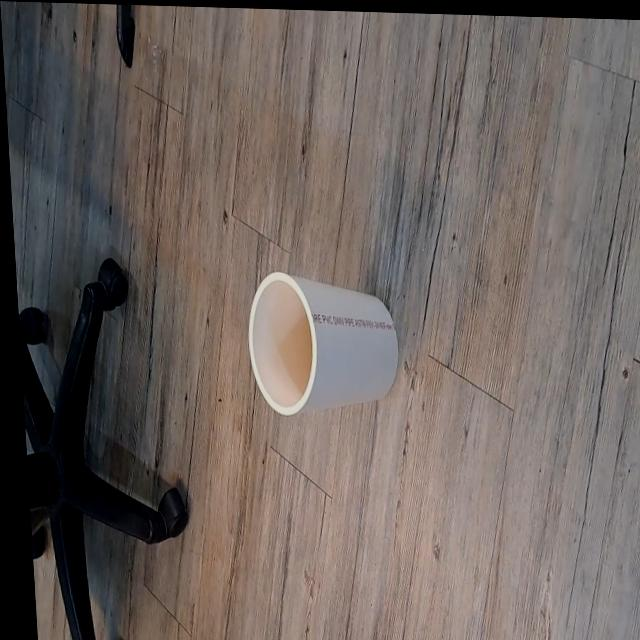CORAL: (240, 245, 413, 440)
